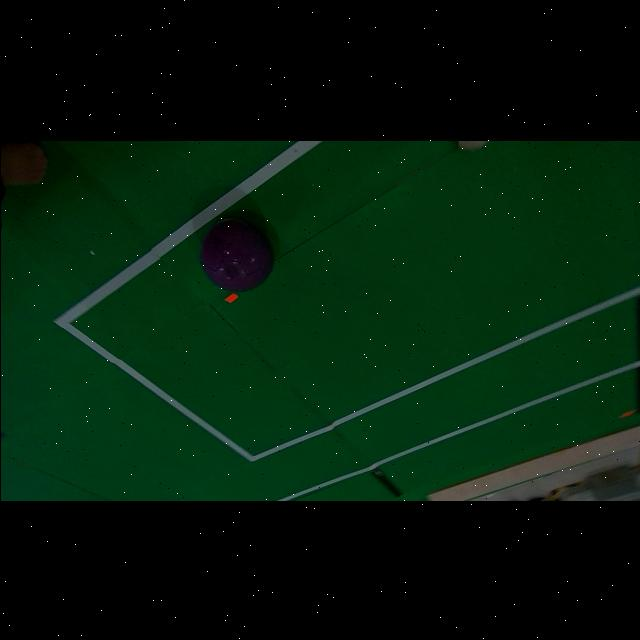P: (199, 217, 272, 291)
